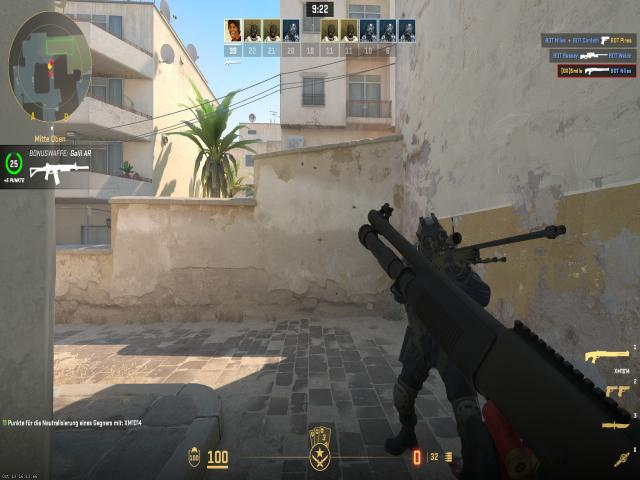CT: (403, 215, 468, 437)
CT-Head: (420, 216, 444, 255)
